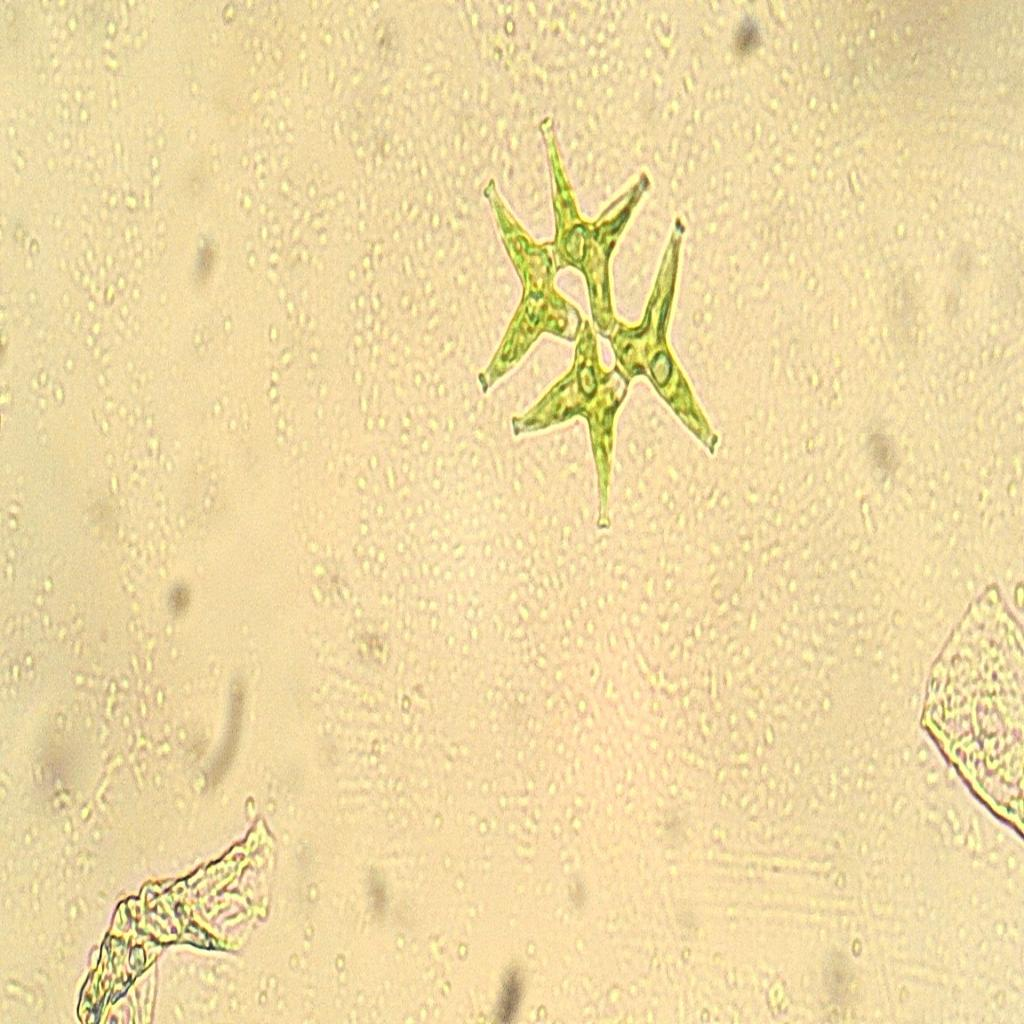Pediastrum_CF: (466, 96, 730, 566)
